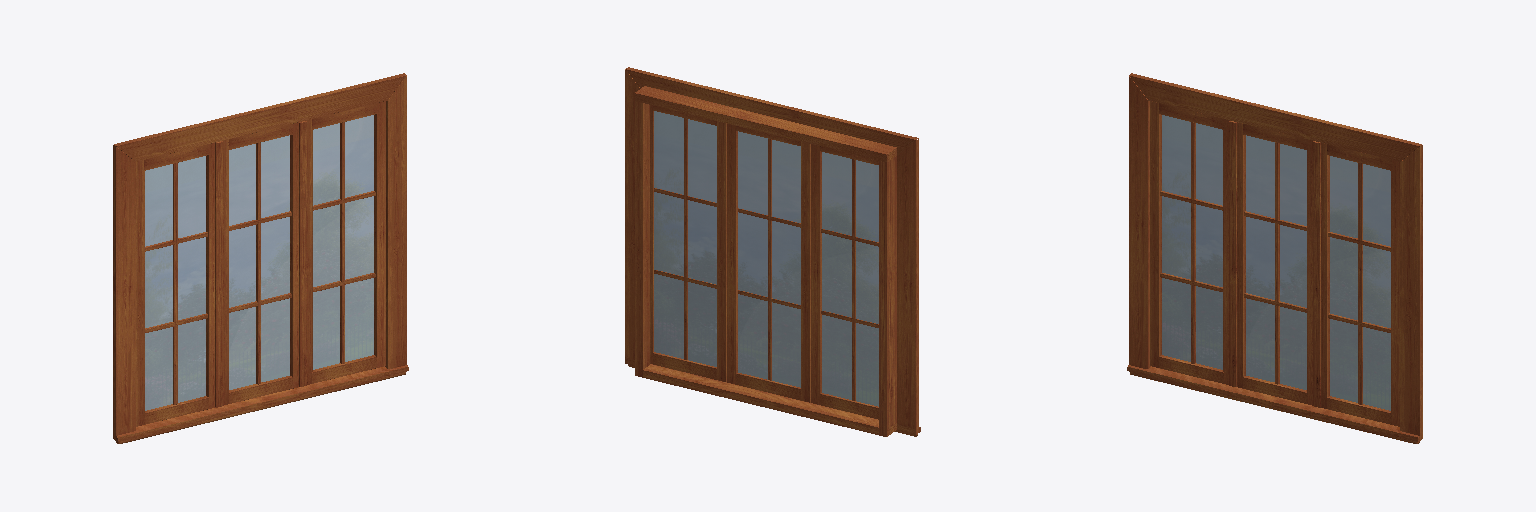
3 views of the same model, side by side, from view 1: azimuth 30°, elevation 25°; view 2: azimuth 150°, elevation 25°; view 3: azimuth 330°, elevation 25° (orthographic).
Parts seen in each view (by area): view 1: glass001, glass002, glass003, trim_left, trim_top, trim_right, window_right003, sill, window_left001, window_right002, window_right001, astragal001 (+13 smaller); view 2: glass002, glass003, glass001, trim_left, box_left, box_top, trim_top, box_right, sill, trim_right, window_right002, window_right001 (+9 smaller); view 3: glass003, glass002, glass001, trim_right, trim_top, trim_left, window_left001, sill, window_right003, window_left002, window_left003, astragal002 (+13 smaller).
Boxes of the visible parts, <box> form: glass001: <box>145,156,205,410</box>; glass002: <box>229,135,289,389</box>; glass003: <box>313,115,373,369</box>; trim_left: <box>113,145,135,440</box>; trim_top: <box>114,73,406,161</box>; trim_right: <box>385,76,406,368</box>; window_right003: <box>374,101,385,367</box>; sill: <box>116,365,408,441</box>; window_left001: <box>133,160,144,426</box>; window_right002: <box>290,122,298,388</box>; window_right001: <box>206,143,215,408</box>; astragal001: <box>215,141,222,407</box>; glass002: <box>738,131,800,387</box>; glass003: <box>654,111,716,366</box>; glass001: <box>822,152,878,406</box>; trim_left: <box>897,139,918,434</box>; box_left: <box>879,156,896,436</box>; box_top: <box>635,86,896,162</box>; trim_top: <box>626,67,918,154</box>; box_right: <box>635,101,649,377</box>; sill: <box>625,357,920,436</box>; trim_right: <box>625,69,639,359</box>; window_right002: <box>727,124,737,384</box>; window_right001: <box>811,144,821,404</box>; glass003: <box>1330,156,1390,410</box>; glass002: <box>1246,135,1306,389</box>; glass001: <box>1162,115,1222,369</box>; trim_right: <box>1400,145,1422,440</box>; trim_top: <box>1129,73,1421,161</box>; trim_left: <box>1129,76,1150,368</box>; window_left001: <box>1150,101,1161,367</box>; sill: <box>1127,365,1419,441</box>; window_right003: <box>1391,160,1402,426</box>; window_left002: <box>1237,122,1245,388</box>; window_left003: <box>1320,143,1329,408</box>; astragal002: <box>1313,141,1320,407</box>.
Size of the model in its own units: 59.52 by 58.31 by 5.
Materials: 7 (7 with a texture image).